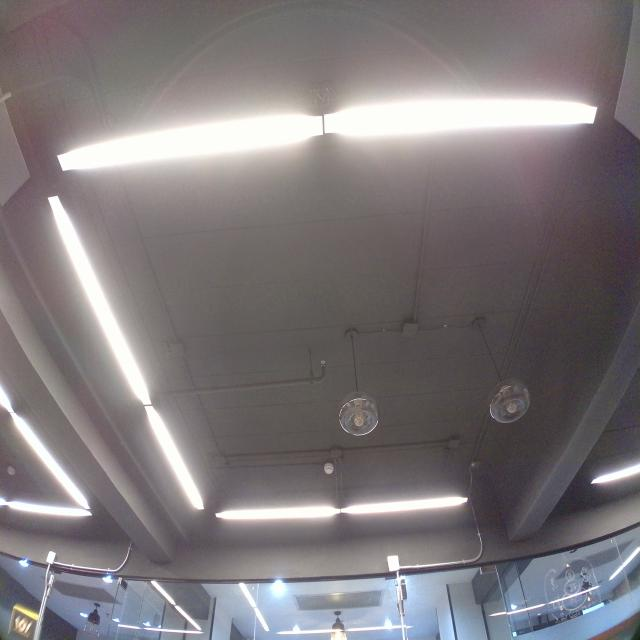lamp2_on: (40, 189, 211, 519), (49, 84, 604, 182), (213, 487, 474, 523)
